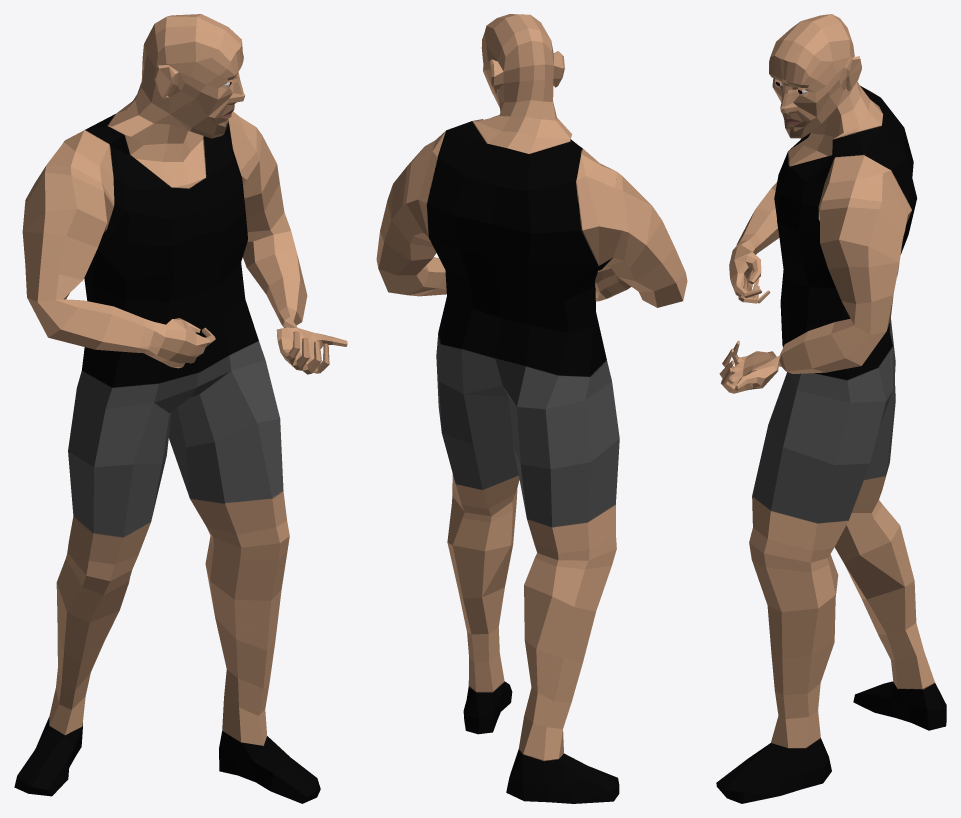
The model's file is PlayerIdle(155).obj.
3 renders of one model, left to right at view 1: azimuth 30°, elevation 25°; view 2: azimuth 150°, elevation 25°; view 3: azimuth 270°, elevation 25°, orthographic. The views are drawn at different scales.
Visible parts, largest first — view 1: Plane002; view 2: Plane002; view 3: Plane002.
Boxes of the visible parts, <box> form: Plane002: <box>14,14,347,803</box>; Plane002: <box>376,14,687,803</box>; Plane002: <box>716,14,946,803</box>.
Bounding box in the file's own units: 704 × 1791 × 504.
